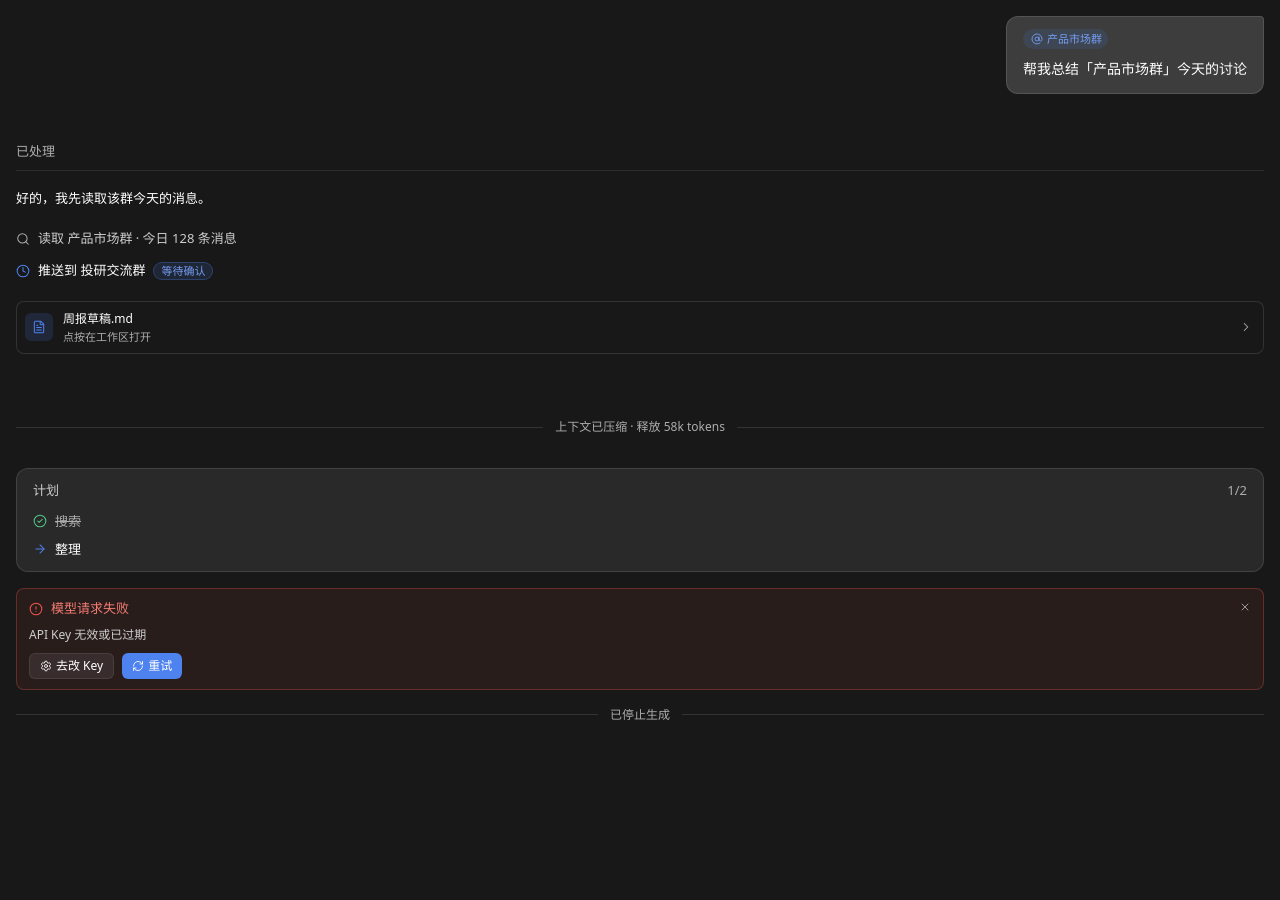
Test: <MessageList> › expands a tool row to show input / output JSON
Click the text "读取 产品市场群 · 今日 128 条消息" at (137, 239), box x1=38 y1=229 x2=237 y2=248
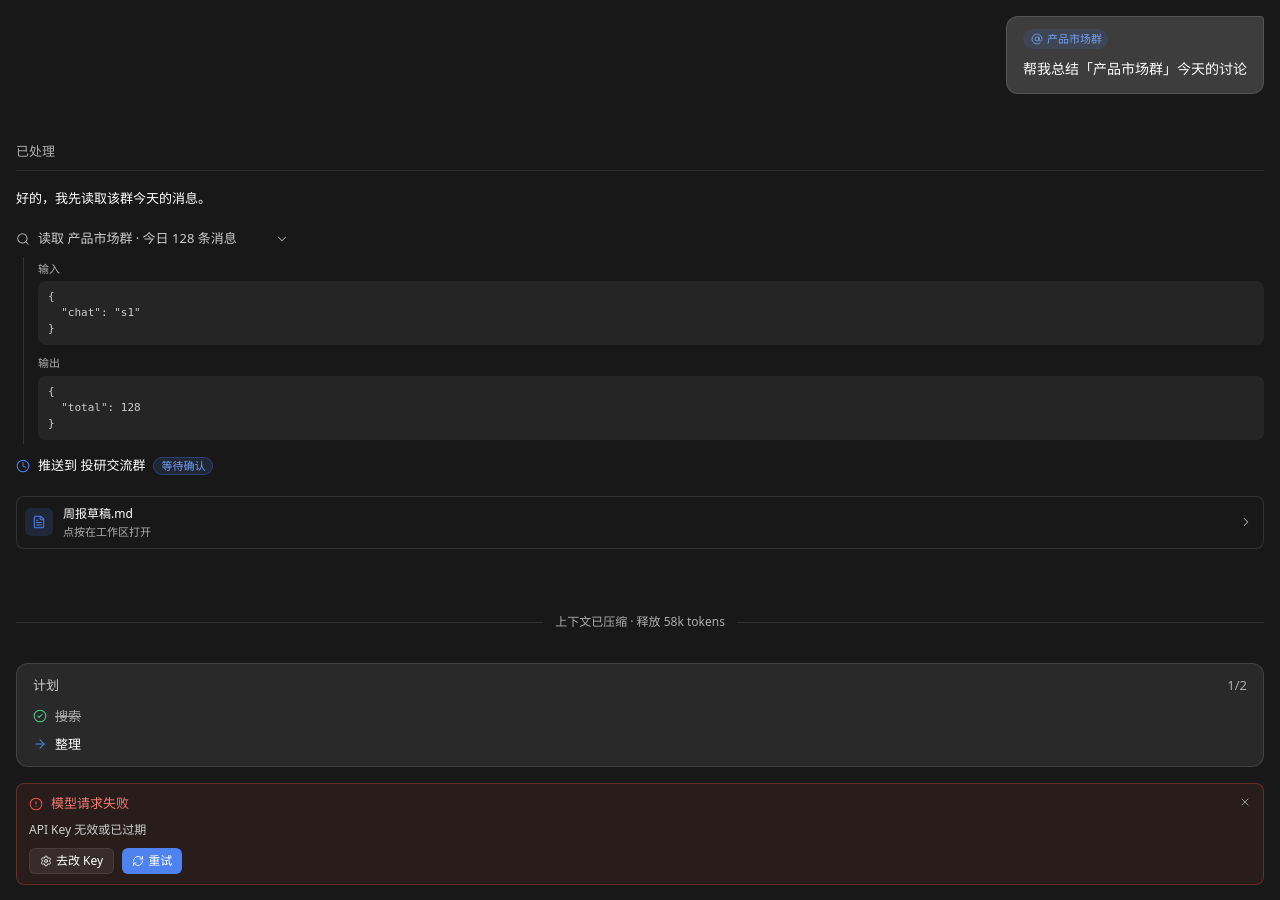
Check: the text "输入" is shown, box x1=38 y1=260 x2=60 y2=276
Check: the text "{ \"chat\": \"s1\" }" is shown, box x1=38 y1=281 x2=1264 y2=345
Check: the text "{ \"total\": 128 }" is shown, box x1=38 y1=376 x2=1264 y2=440
